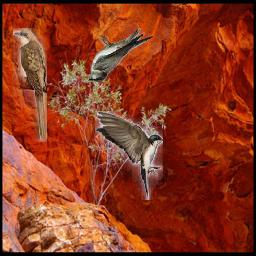Cuckoo: (13, 28, 47, 142)
Swallow: (95, 112, 163, 201), (87, 28, 153, 82)
